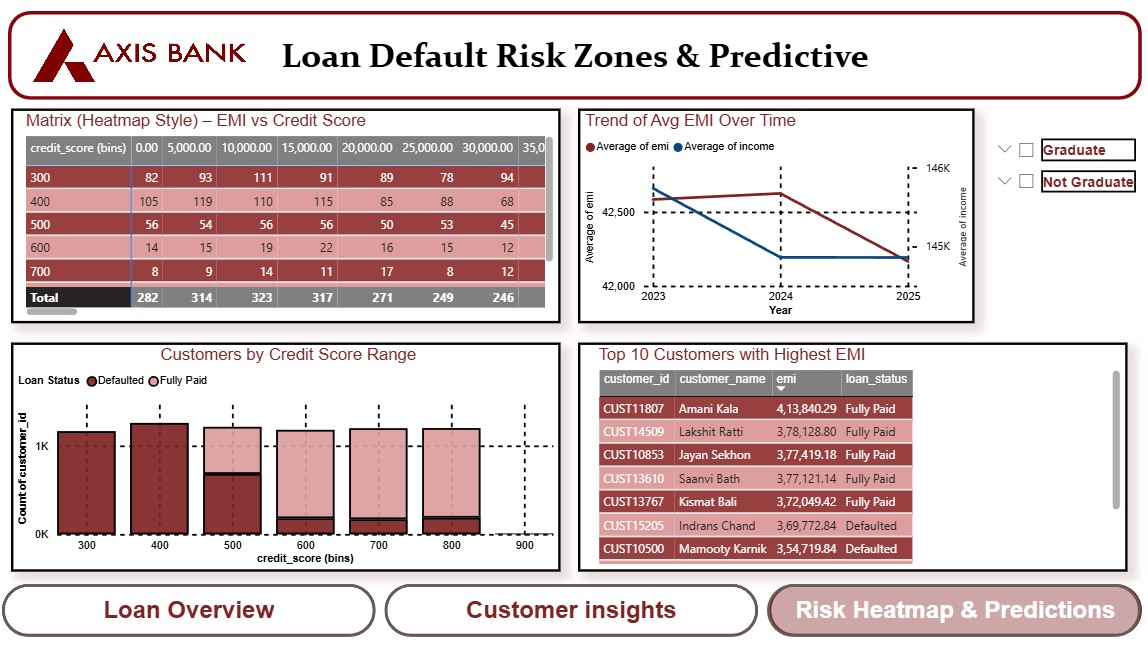

The dashboard page shown, as its layout file describes it:
{"tool":"powerbi","page":{"name":"Risk Heatmap & Prediction Focus","canvas":[1280,720],"ordinal":2},"visuals":[{"type":"shape","box":[6.7,650,415,58.3],"z":0},{"type":"shape","box":[431.7,650,415,58.3],"z":1000},{"type":"shape","box":[858.3,650,415,58.3],"z":2000},{"type":"actionButton","box":[6.4,650.6,415.1,58.9],"z":3000},{"type":"actionButton","box":[431.1,650.6,415.1,58.9],"z":4000},{"type":"actionButton","box":[857.3,650.6,415.1,58.9],"z":5000},{"type":"slicer","fields":{"Values":["Default_loan_prediction.education","Default_loan_prediction.loan_status","Default_loan_prediction.property_area"]},"box":[1100.7,144.7,171.8,84.3],"z":6000},{"type":"pivotTable","title":"Matrix (Heatmap Style) – EMI vs Credit Score","fields":{"Rows":["Default_loan_prediction.credit_score (bins)"],"Columns":["Default_loan_prediction.emi (bins)"],"Values":["CountNonNull(Default_loan_prediction.customer_id)"]},"box":[17.5,120.9,610.8,238.6],"z":7000},{"type":"tableEx","title":"Top 10 Customers with Highest EMI","fields":{"Values":["Default_loan_prediction.customer_id","Default_loan_prediction.customer_name","Default_loan_prediction.emi","Default_loan_prediction.loan_status"]},"box":[647.4,381.7,610.8,254.5],"z":8000},{"type":"columnChart","title":"Customers by Credit Score Range","fields":{"Y":["CountNonNull(Default_loan_prediction.customer_id)"],"Series":["Default_loan_prediction.loan_status"],"Category":["Default_loan_prediction.credit_score (bins)"]},"box":[17.5,381.7,610.8,254.5],"z":9000},{"type":"lineChart","title":"Trend of Avg EMI Over Time","fields":{"Category":["Default_loan_prediction.approved_date.Variation.Date Hierarchy.Year","Default_loan_prediction.approved_date.Variation.Date Hierarchy.Month"],"Y":["Avg(Default_loan_prediction.emi)"],"Y2":["Avg(Default_loan_prediction.income)"]},"box":[647.4,120.9,440.6,238.6],"z":10000},{"type":"image","box":[0,13.3,318.3,98.3],"z":11000},{"type":"shape","box":[12.7,12.7,1259.8,98.6],"z":12000}]}

Visuals, with their boxes in screenshot pixels (x1, y1, x2, y2), scaled from the page's 1280x720 canvas onto the 1148x646 screenshot:
shape: <region>6, 583, 378, 636</region>
shape: <region>387, 583, 759, 636</region>
shape: <region>770, 583, 1142, 636</region>
actionButton: <region>6, 584, 378, 637</region>
actionButton: <region>387, 584, 759, 637</region>
actionButton: <region>769, 584, 1141, 637</region>
slicer - Default_loan_prediction.education x Default_loan_prediction.loan_status: <region>987, 130, 1141, 205</region>
"Matrix (Heatmap Style) – EMI vs Credit Score" pivotTable: <region>16, 108, 564, 323</region>
"Top 10 Customers with Highest EMI" tableEx: <region>581, 342, 1128, 571</region>
"Customers by Credit Score Range" columnChart: <region>16, 342, 564, 571</region>
"Trend of Avg EMI Over Time" lineChart: <region>581, 108, 976, 323</region>
image: <region>0, 12, 285, 100</region>
shape: <region>11, 11, 1141, 100</region>
